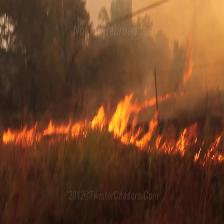fire: (0, 33, 224, 170)
